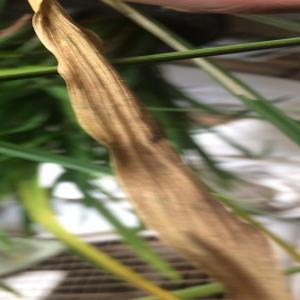Bacterial_Blight: (131, 153, 262, 300)
